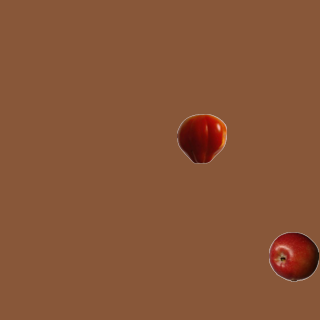Apple Braeburn: (268, 231, 318, 281)
Tomato 1: (176, 113, 226, 163)
